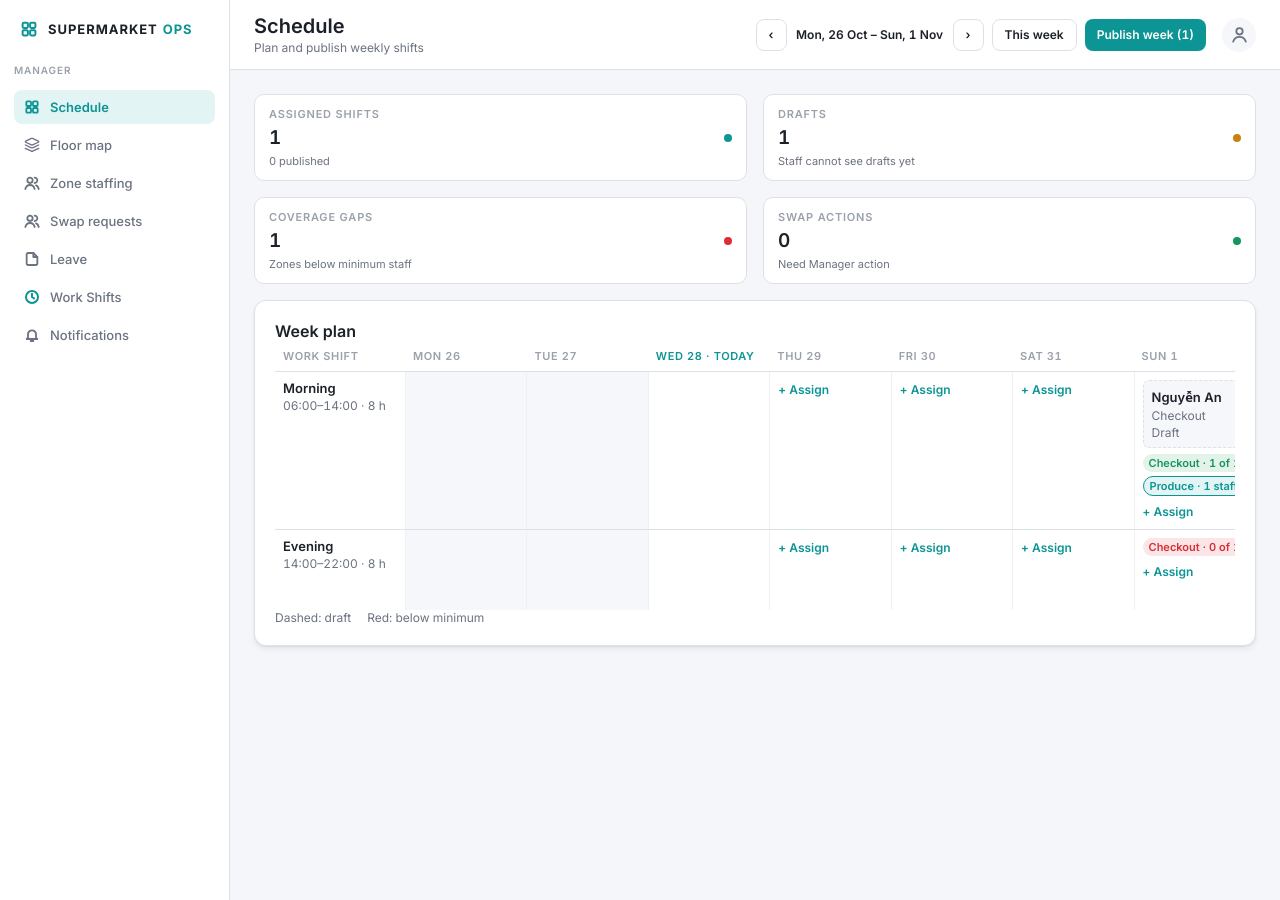
Test case: Manager console › shows the week with drafts and coverage gaps, and reports a refused publish
The width and height of the screenshot is (1280, 900).
Expected: the text "Draft" is shown, [1152, 425, 1179, 440]
Expected: the row that starts with "Morning" is shown, [283, 380, 336, 396]
Click the button "Publish week (1)": (1145, 34) [1085, 18, 1206, 50]
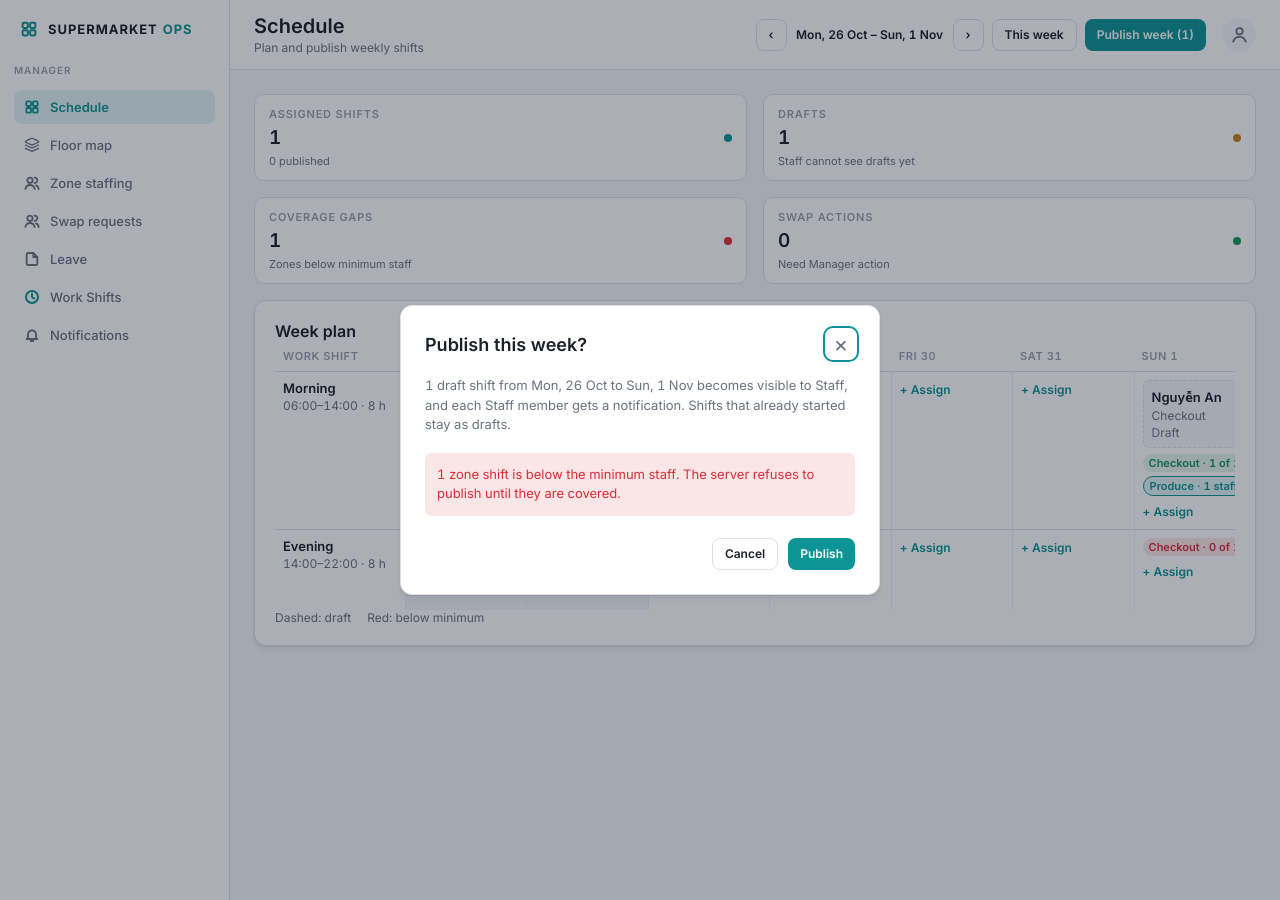
Click the button "Publish": (822, 554) [788, 538, 855, 570]
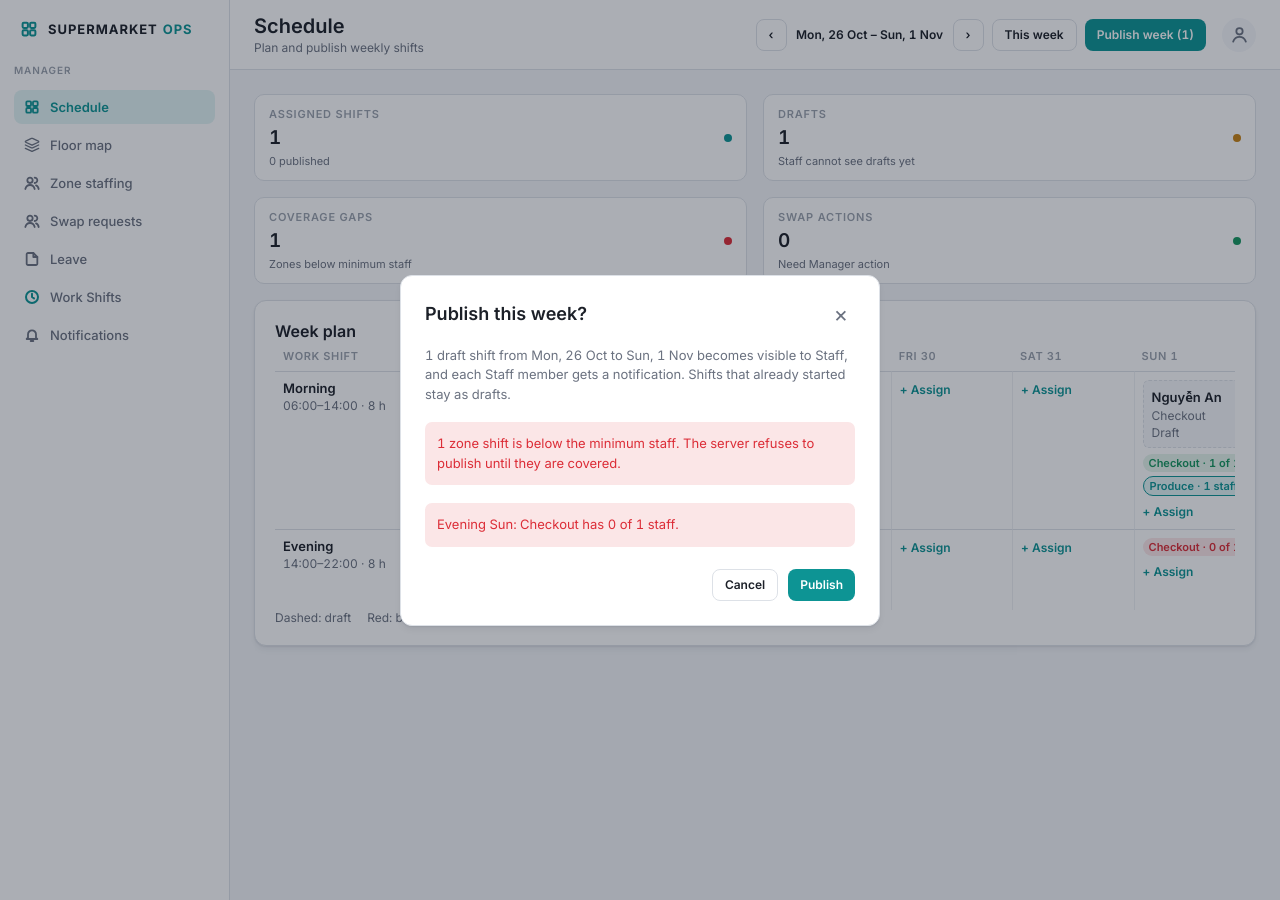
Now the message shows "Checkout has 0 of 1 staff", box [437, 516, 679, 532]
